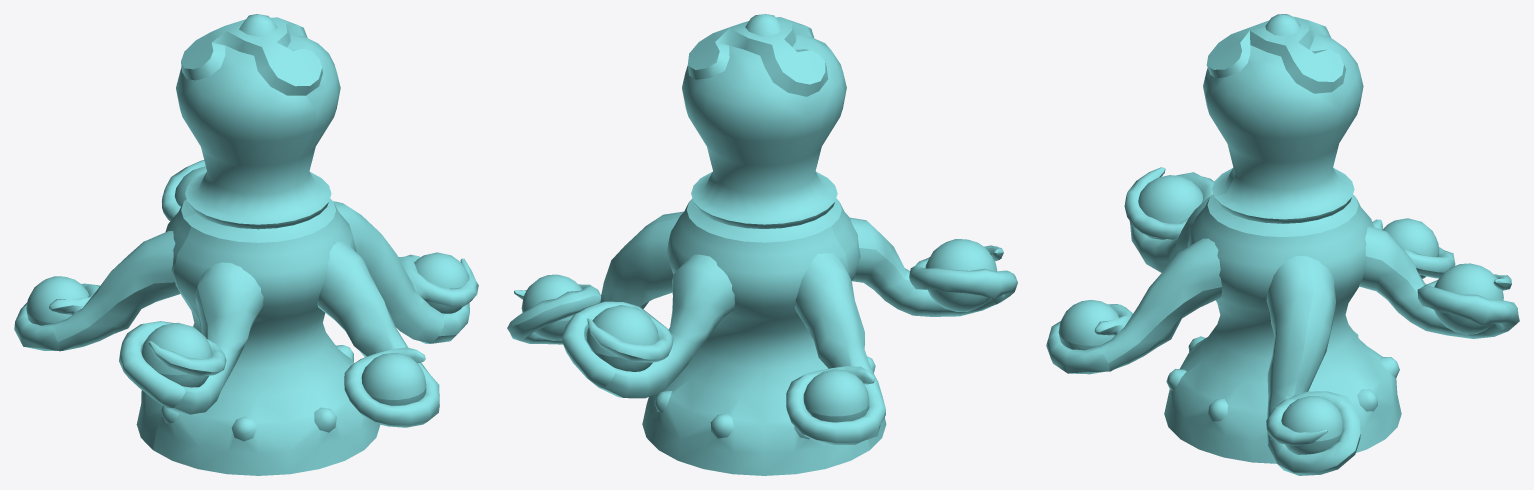
Rendered from SM_Octopus_Planter_1.fbx.
The picture shows the model from 3 angles, left to right: view 1: azimuth 30°, elevation 25°; view 2: azimuth 150°, elevation 25°; view 3: azimuth 270°, elevation 25°; orthographic projection. The views are drawn at different scales.
Visible parts, largest first — view 1: SM_Octopus_Planter_1; view 2: SM_Octopus_Planter_1; view 3: SM_Octopus_Planter_1.
Boxes of the visible parts, x1,y1,x2,y2 form: SM_Octopus_Planter_1: (14,14,478,475); SM_Octopus_Planter_1: (507,14,1017,475); SM_Octopus_Planter_1: (1046,14,1519,475).
Bounding box in the file's own units: 116 × 108 × 116.
